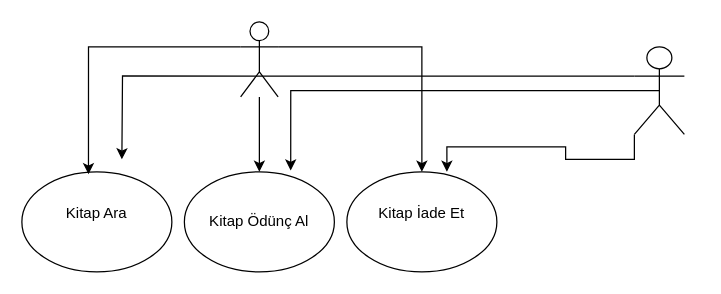
The diagram is 721 pixels wide and 294 high, and some of its shapes have lost their labels. Here are the shapes that lost their labels. From the top down, the box of each, then its label:
(239, 21, 278, 97): kullanıcı
(633, 46, 684, 134): kütüphaneci
